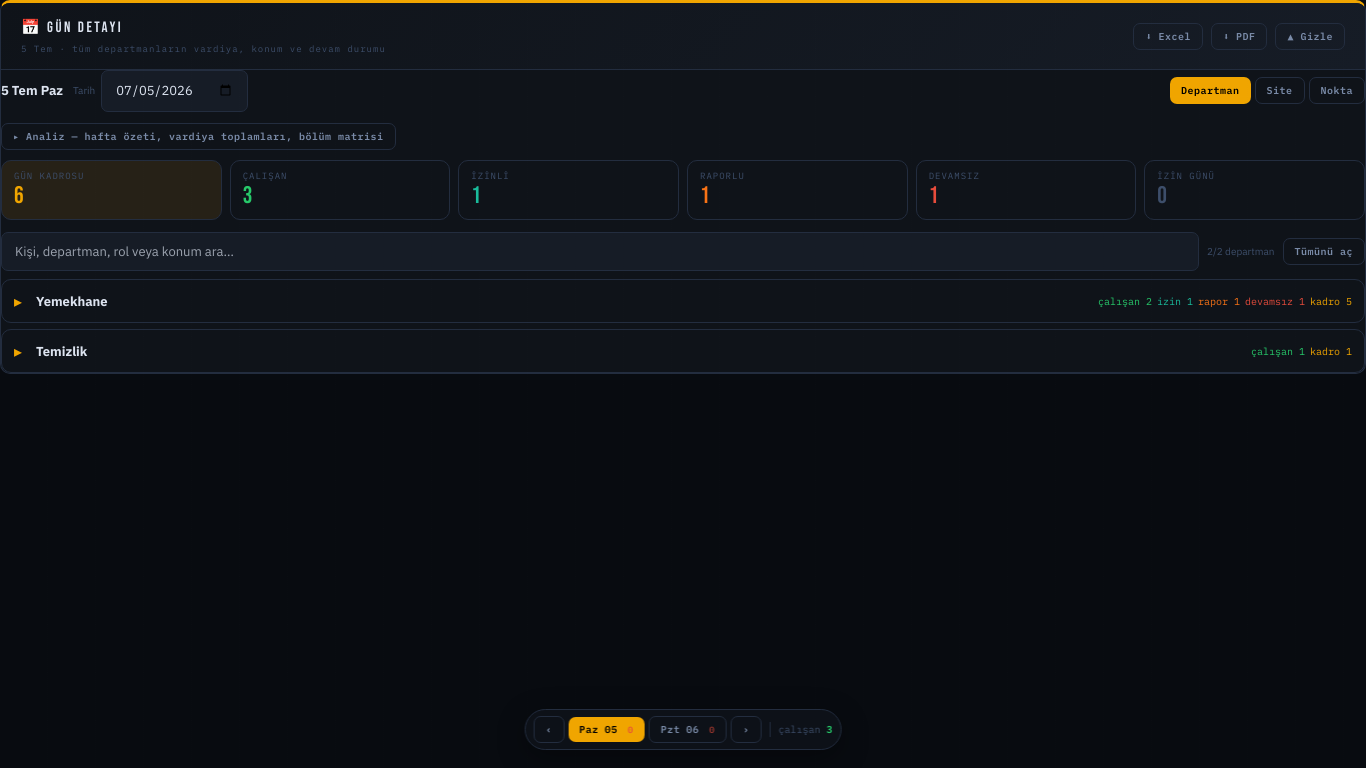
Test: DayDetailBoard › bölüme tıklayınca vardiya + kişi + izin/rapor/devamsız kovaları açılır
Click the button with aria-label "Yemekhane detayları": (72,301) left=2, top=280, right=1364, bottom=322
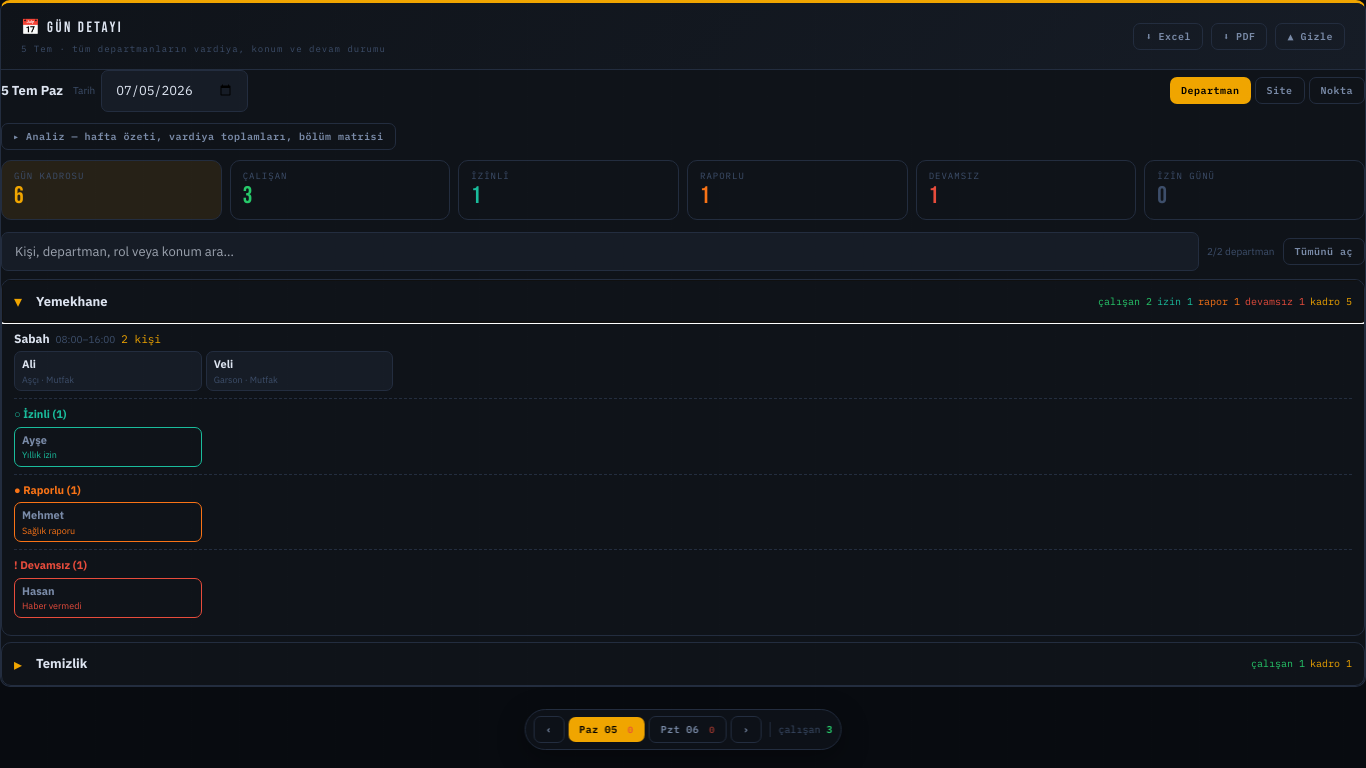
Now the button "Ali Aşçı · Mutfak" is shown, box left=14, top=351, right=202, bottom=391
Now the text "2 kişi" is shown, box left=121, top=331, right=161, bottom=348
Now the text "İzinli (1)" is shown, box left=14, top=407, right=67, bottom=421
